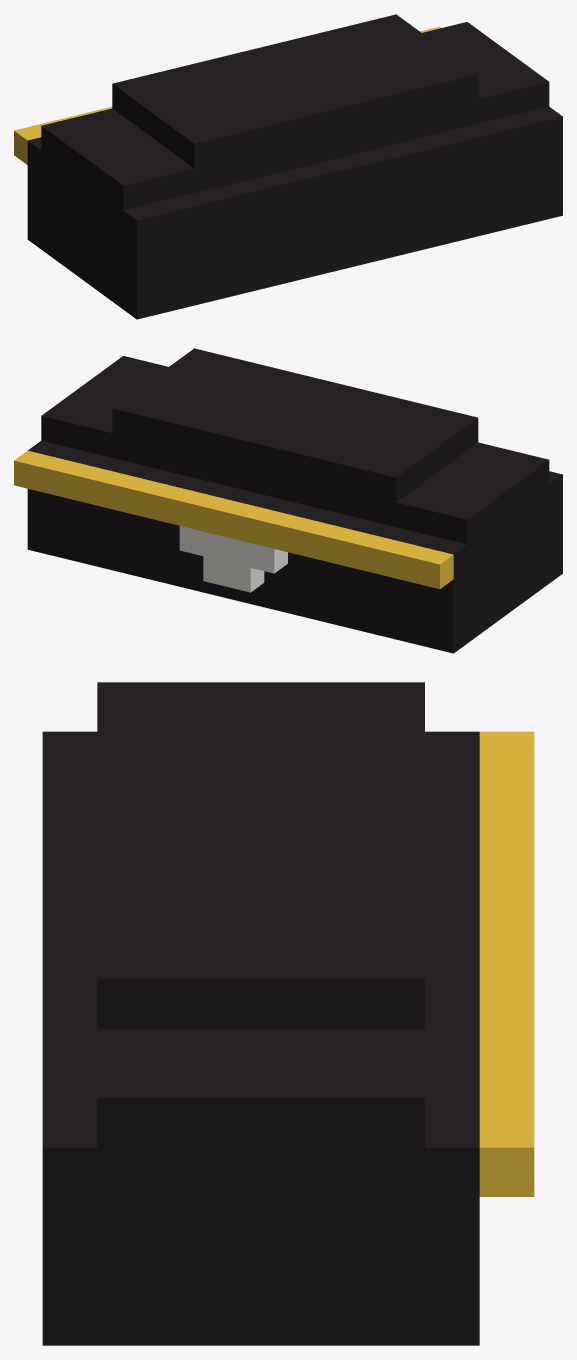
The model's file is pirate.glb.
The picture shows the model from 3 angles, top to bottom: view 1: azimuth 30°, elevation 25°; view 2: azimuth 150°, elevation 25°; view 3: azimuth 270°, elevation 25°; orthographic projection. The views are drawn at different scales.
Parts seen in each view (by area): view 1: pirate; view 2: pirate; view 3: pirate.
Part boxes in pixels (<box>): pirate: <box>14,14,562,319</box>; pirate: <box>14,348,562,653</box>; pirate: <box>42,682,534,1345</box>.
Bounding box in the file's own units: 0.9 × 0.3 × 0.45.
Materials: 1 (1 with a texture image).
